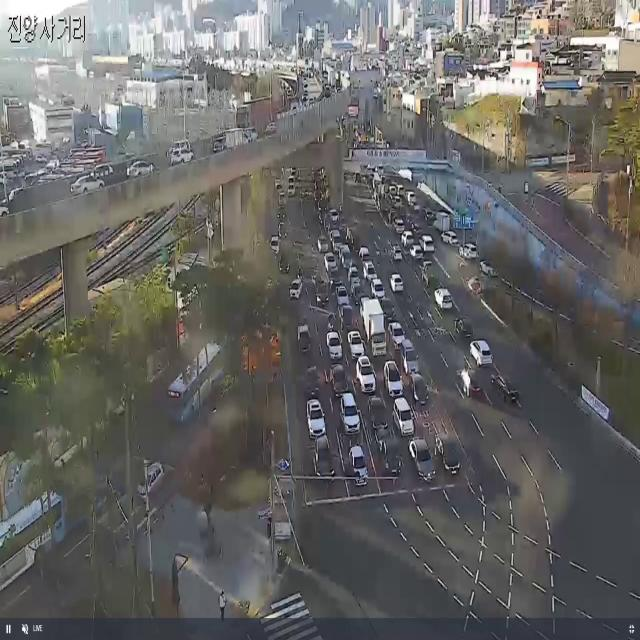bus: (326, 309, 337, 332)
car: (0, 466, 73, 596), (167, 327, 230, 434)
motorcycle: (407, 434, 437, 488), (310, 432, 340, 485), (489, 364, 521, 410), (376, 435, 406, 484), (344, 441, 372, 493), (434, 432, 462, 478), (366, 393, 390, 437), (460, 363, 484, 405), (338, 393, 362, 435), (391, 397, 416, 437), (304, 400, 329, 438), (69, 173, 107, 198), (408, 372, 432, 409), (468, 338, 494, 369), (328, 363, 351, 398), (452, 316, 478, 345), (296, 319, 315, 357), (303, 364, 324, 398), (324, 330, 344, 362), (125, 160, 157, 180), (312, 276, 329, 310), (433, 288, 455, 314), (478, 258, 502, 280), (458, 241, 479, 261), (289, 276, 304, 302), (440, 228, 459, 247), (389, 272, 405, 294), (389, 243, 404, 264), (316, 234, 330, 254)
truck: (361, 294, 391, 359)
